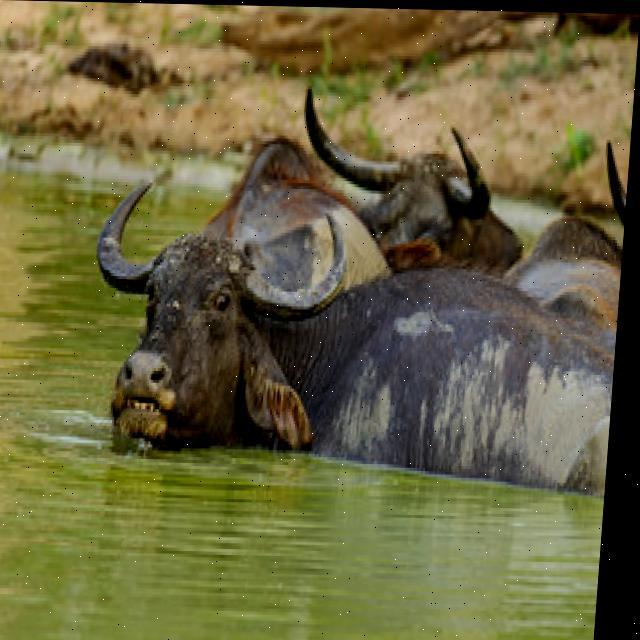Buffalo: (59, 169, 627, 510)
